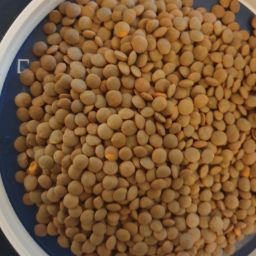Black Lentil(masoor daal): (42, 2, 244, 203), (64, 53, 251, 256), (16, 65, 98, 256)
